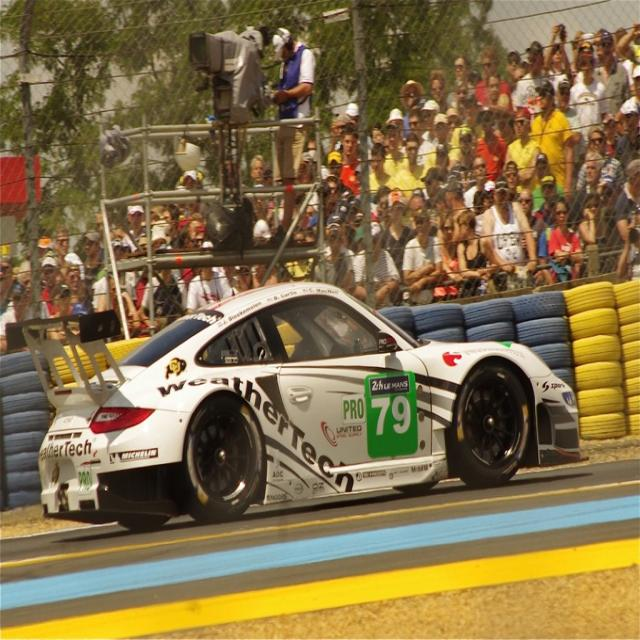car: (24, 270, 580, 518)
